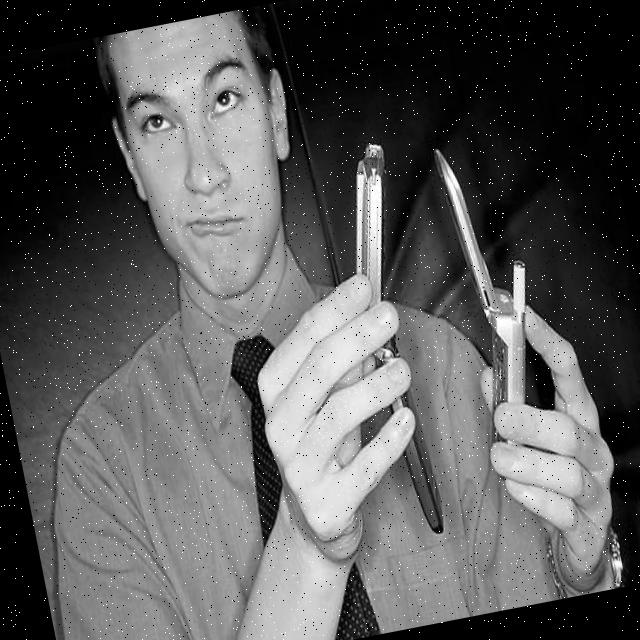Disgust: (106, 8, 302, 311)
